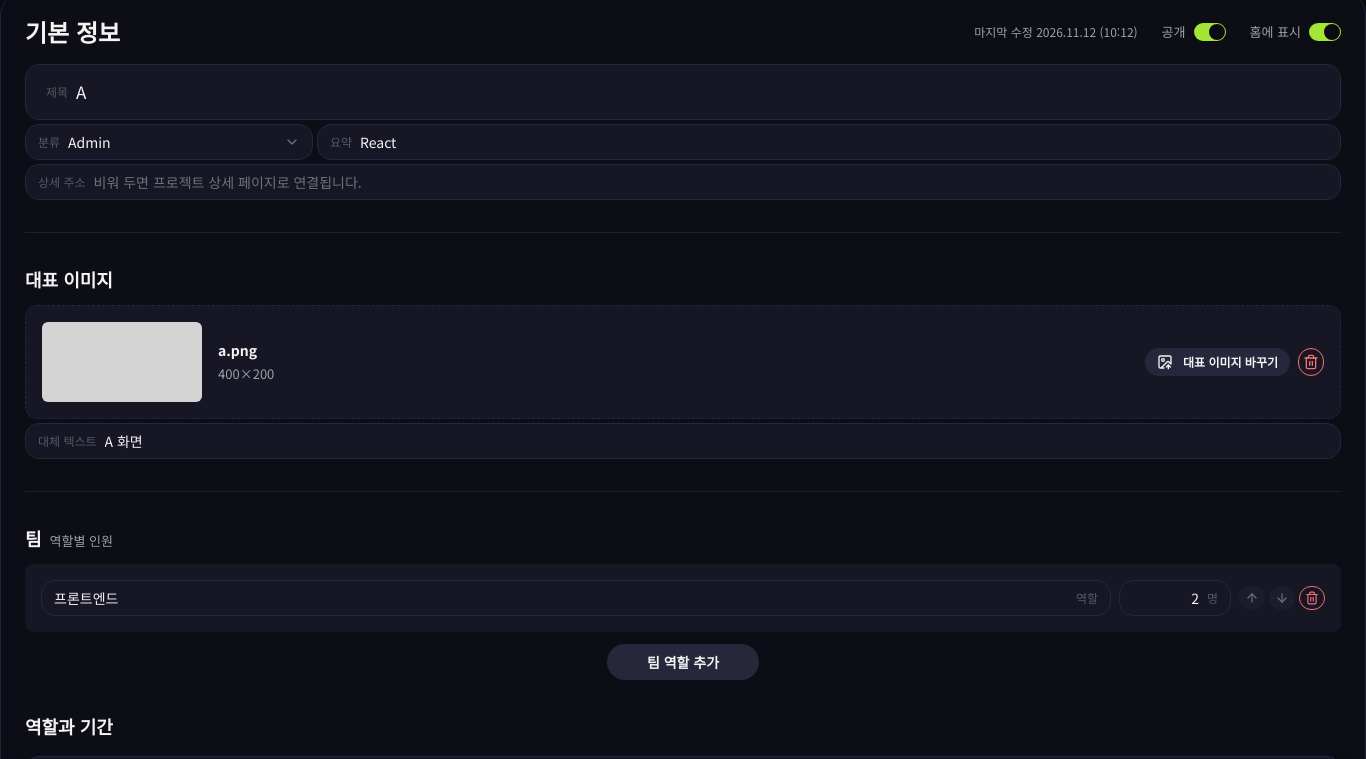
Test case: ProjectForm › 수정 화면은 고친 내용이 있어야 저장할 수 있다
Later steps or results of the test are not shown.
Type " 19" into the field next to "요약" at {"x": 844, "y": 142}, box [360, 132, 1328, 152]
(page scrolled)
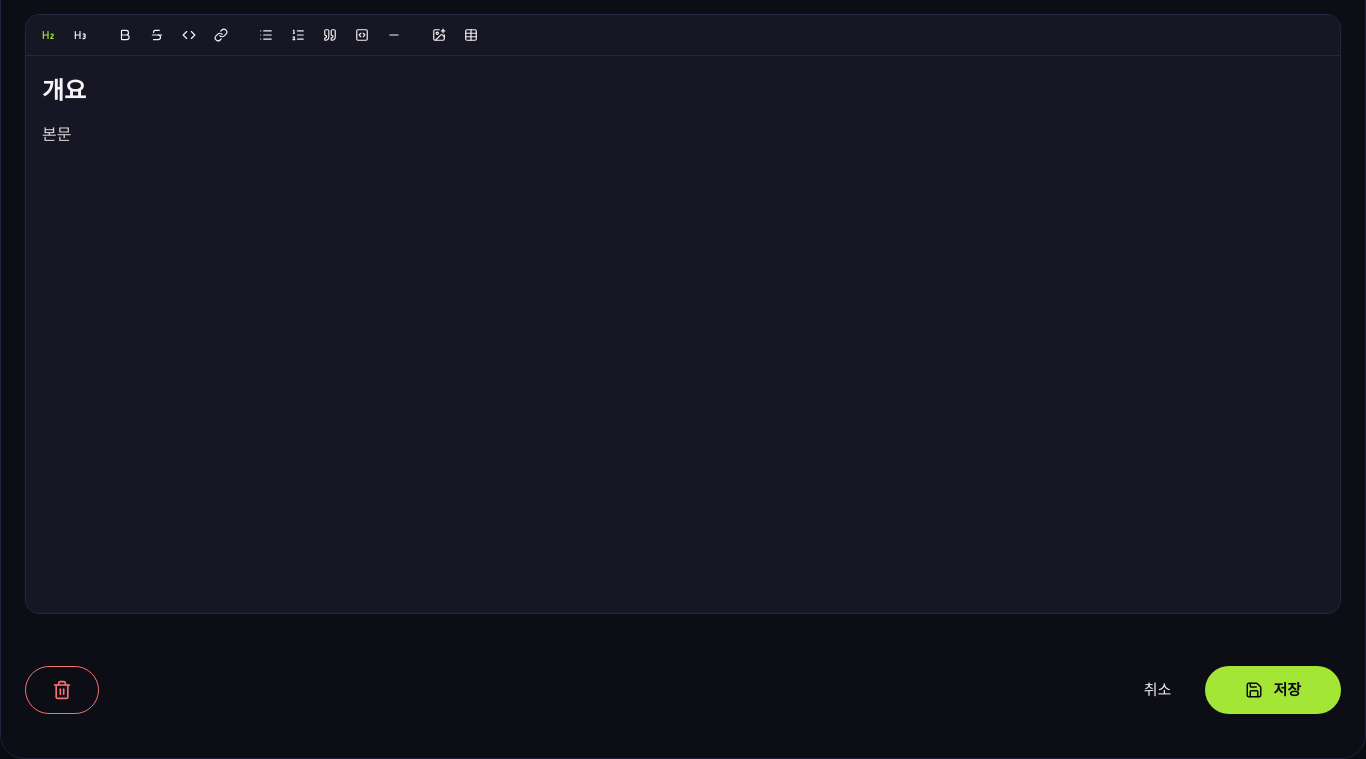
Now the button "저장" is enabled, box [1205, 666, 1341, 714]
